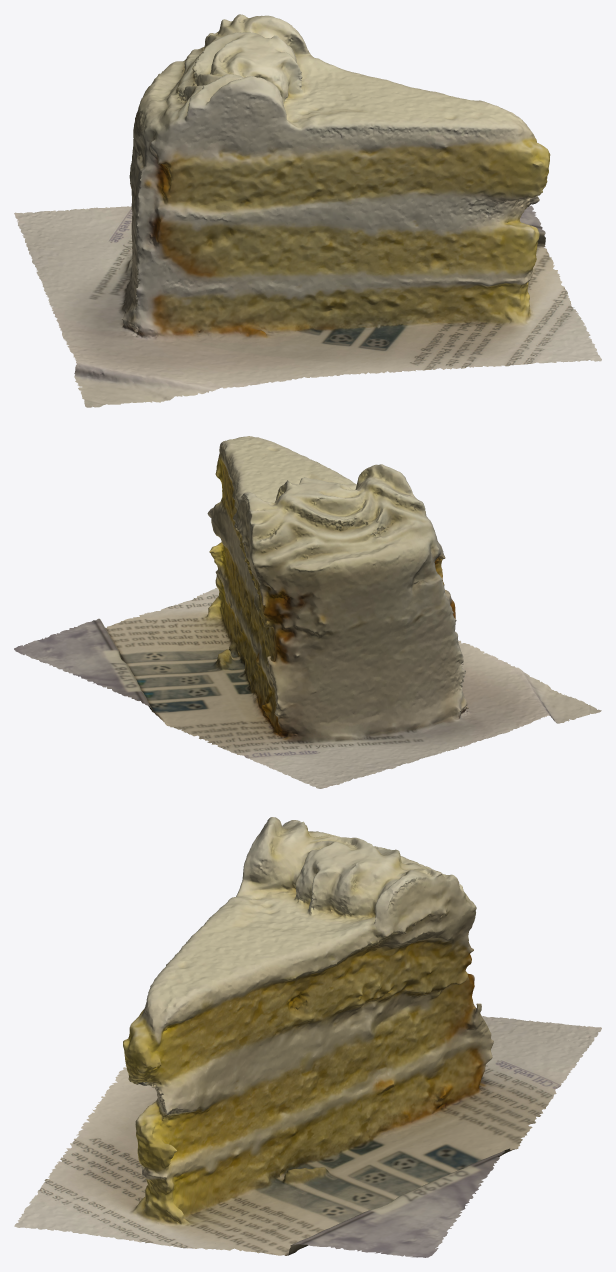
The model's file is vanilla_cake_slice.glb.
The picture shows the model from 3 angles, top to bottom: view 1: azimuth 30°, elevation 25°; view 2: azimuth 150°, elevation 25°; view 3: azimuth 270°, elevation 25°; orthographic projection. The views are drawn at different scales.
Parts seen in each view (by area): view 1: Object_3, Object_2, Object_4; view 2: Object_2, Object_3, Object_4; view 3: Object_3, Object_2, Object_4.
Boxes of the visible parts, x1=… form: Object_3: x1=136, y1=14, x2=601, y2=380; Object_2: x1=14, y1=58, x2=550, y2=407; Object_4: x1=76, y1=15, x2=540, y2=397; Object_2: x1=109, y1=436, x2=601, y2=788; Object_3: x1=14, y1=441, x2=473, y2=736; Object_4: x1=73, y1=437, x2=551, y2=769; Object_3: x1=14, y1=837, x2=514, y2=1257; Object_2: x1=73, y1=837, x2=601, y2=1252; Object_4: x1=41, y1=817, x2=573, y2=1227.
Bounding box in the file's own units: 14.94 × 6.75 × 12.92.
1 material, 1 textured.
